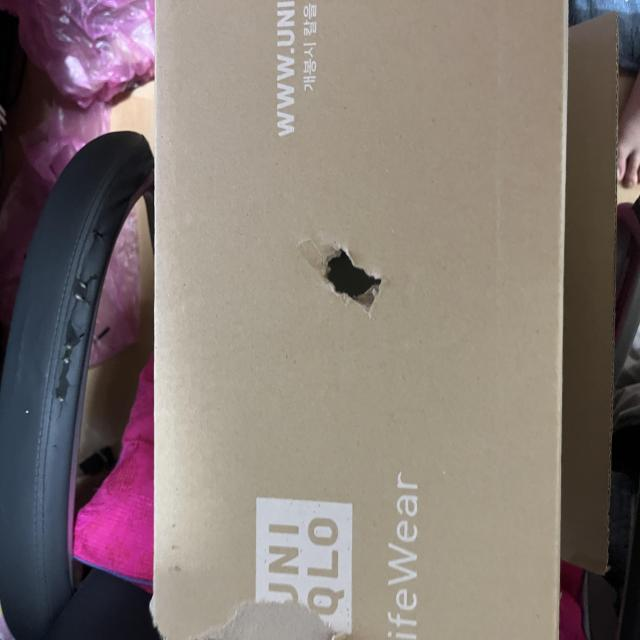damaged: (258, 324, 322, 392)
